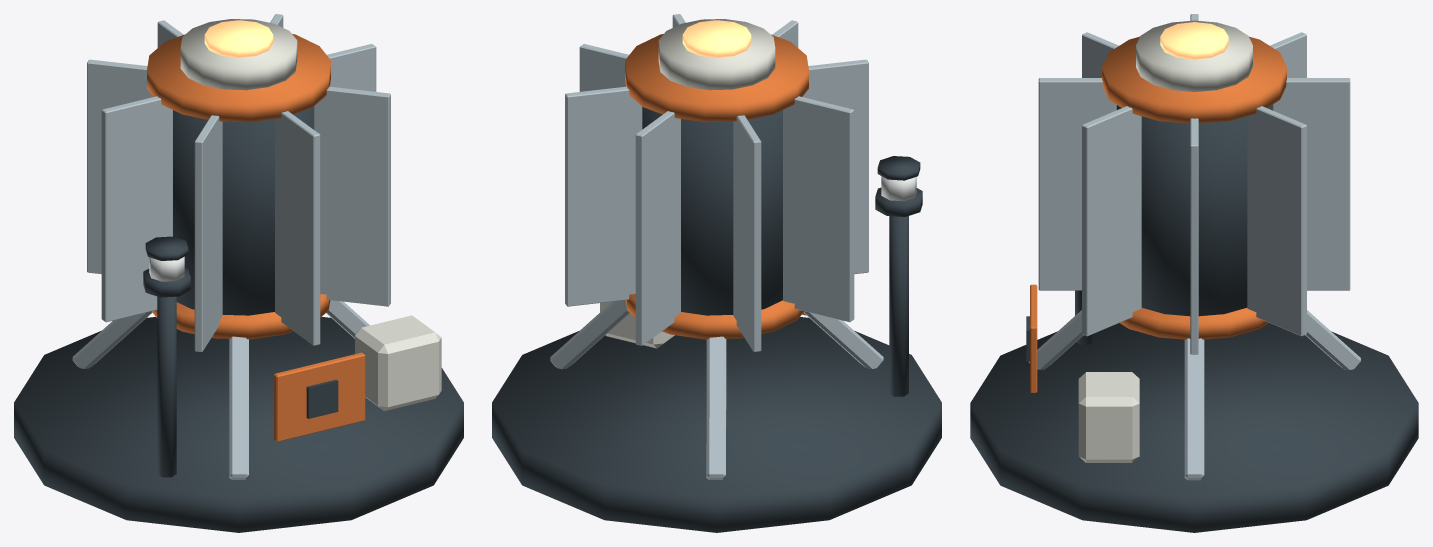
Rendered from rtg.glb.
3 views of the same model, side by side, from view 1: azimuth 30°, elevation 25°; view 2: azimuth 150°, elevation 25°; view 3: azimuth 270°, elevation 25° (orthographic).
Parts seen in each view (by area): view 1: rtg_dark, rtg_metal, rtg_orange, rtg_ivory, rtg_ember, Lamp.002; view 2: rtg_dark, rtg_metal, rtg_orange, rtg_ivory, rtg_ember, Lamp.002; view 3: rtg_dark, rtg_metal, rtg_orange, rtg_ivory, rtg_ember.
Boxes of the visible parts, x1=… form: rtg_dark: x1=14, y1=107, x2=463, y2=532; rtg_metal: x1=72, y1=14, x2=390, y2=479; rtg_orange: x1=147, y1=34, x2=365, y2=441; rtg_ivory: x1=180, y1=19, x2=441, y2=410; rtg_ember: x1=204, y1=20, x2=273, y2=57; Lamp.002: x1=149, y1=256, x2=184, y2=281; rtg_dark: x1=492, y1=107, x2=941, y2=532; rtg_metal: x1=550, y1=14, x2=883, y2=479; rtg_orange: x1=625, y1=34, x2=808, y2=339; rtg_ivory: x1=600, y1=19, x2=775, y2=348; rtg_ember: x1=682, y1=20, x2=751, y2=57; Lamp.002: x1=881, y1=176, x2=916, y2=201; rtg_dark: x1=970, y1=105, x2=1418, y2=532; rtg_metal: x1=1029, y1=14, x2=1360, y2=480; rtg_orange: x1=1030, y1=36, x2=1286, y2=392; rtg_ivory: x1=1078, y1=20, x2=1252, y2=462; rtg_ember: x1=1160, y1=22, x2=1228, y2=59.
Size of the model in its own units: 1.84 by 1.82 by 1.84.
